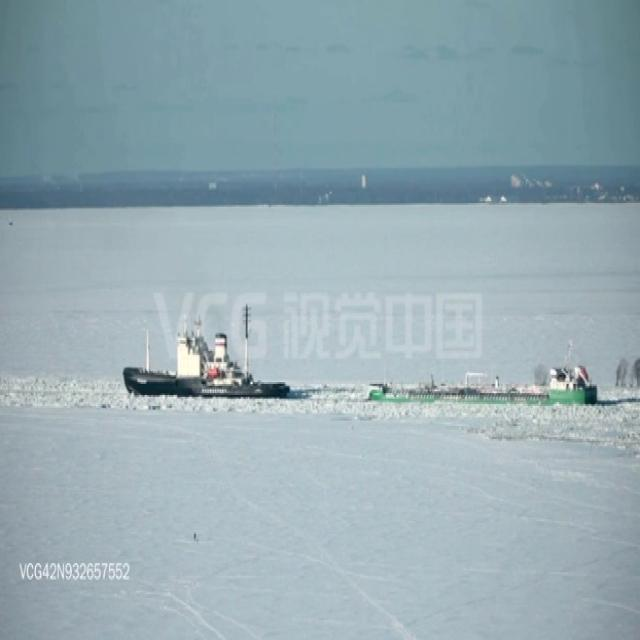cargoship: (364, 346, 594, 404)
houseboat: (124, 299, 300, 406)
